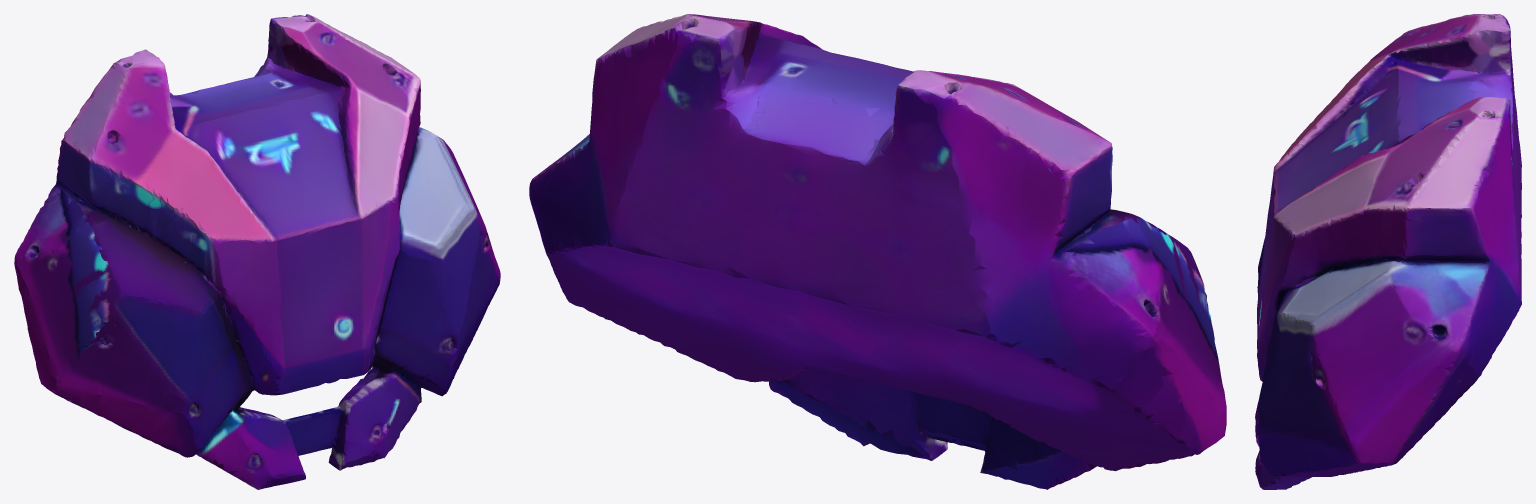
The model's file is supergt_armor2.glb.
3 views of the same model, side by side, from view 1: azimuth 30°, elevation 25°; view 2: azimuth 150°, elevation 25°; view 3: azimuth 270°, elevation 25° (orthographic). The views are drawn at different scales.
Parts seen in each view (by area): view 1: Armor_Super_GT.001; view 2: Armor_Super_GT.001; view 3: Armor_Super_GT.001.
Boxes of the visible parts, box(x1,y1,x2,y2) form: Armor_Super_GT.001: box(14, 14, 500, 489); Armor_Super_GT.001: box(529, 14, 1226, 489); Armor_Super_GT.001: box(1255, 14, 1521, 489).
Bounding box in the file's own units: 1.2 × 0.9207 × 0.5677.
Materials: 1 (1 with a texture image).
